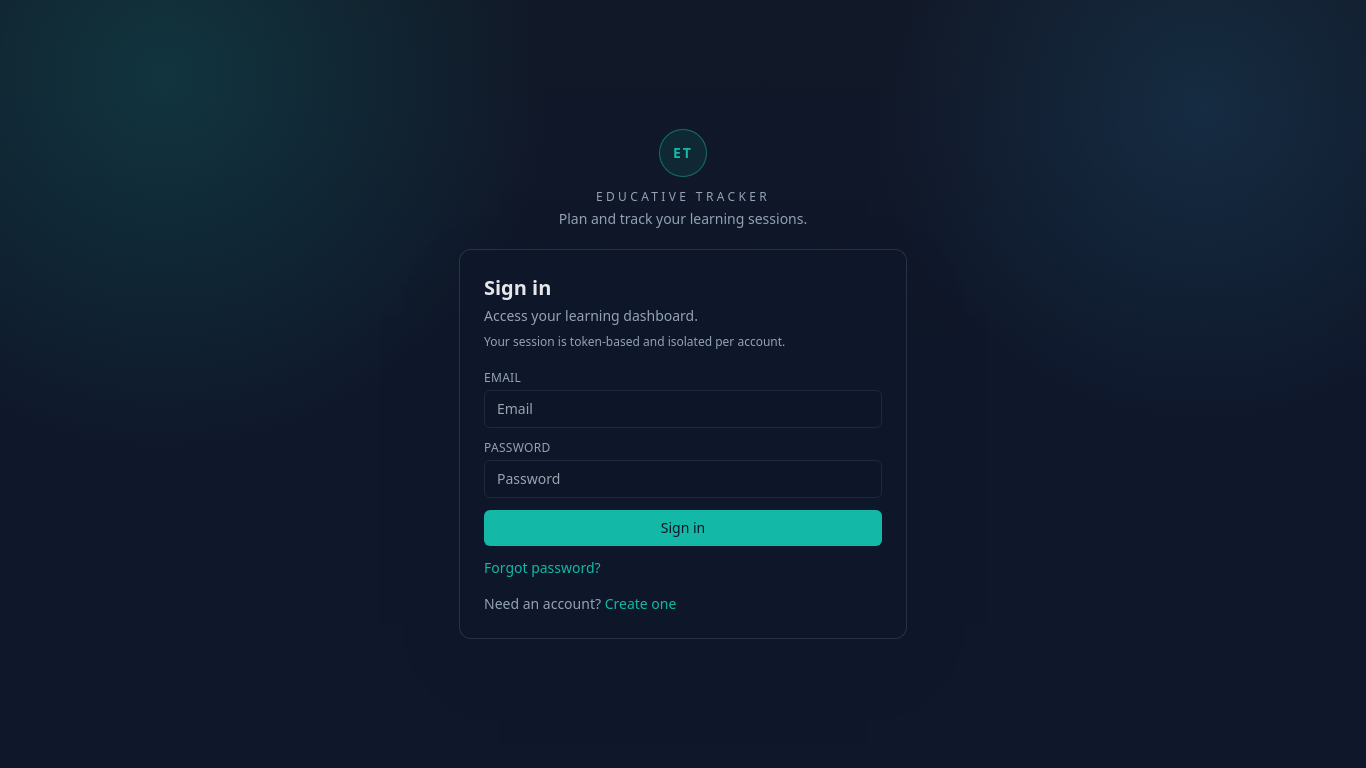
it: Frontend auth integration › logs in and redirects back to the originally requested protected route
Type "user1@example.com" into the field with placeholder "Email".
click(683, 409); type("user1@example.com")  # box [484,390,882,428]
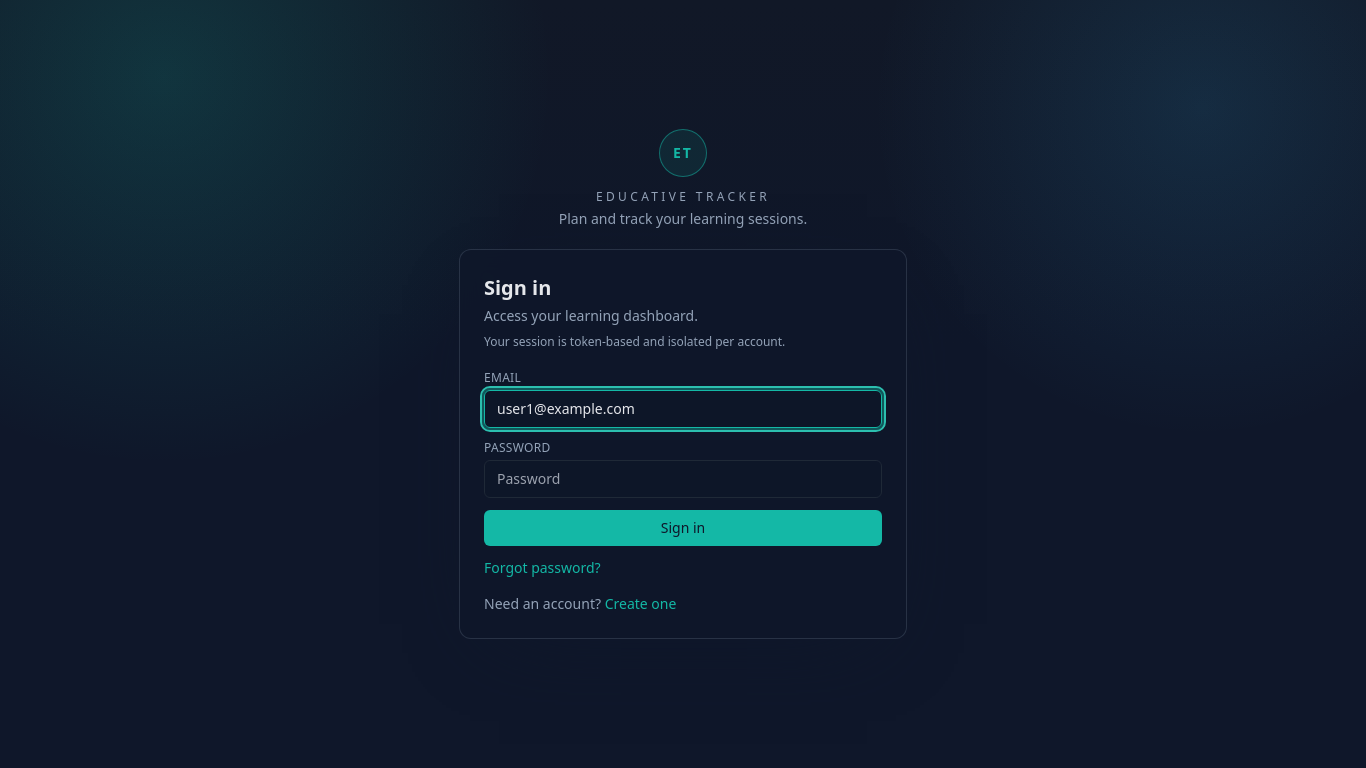
Type "StrongPass123" into the password field with placeholder "Password".
click(683, 479); type("StrongPass123")  # box [484,460,882,498]
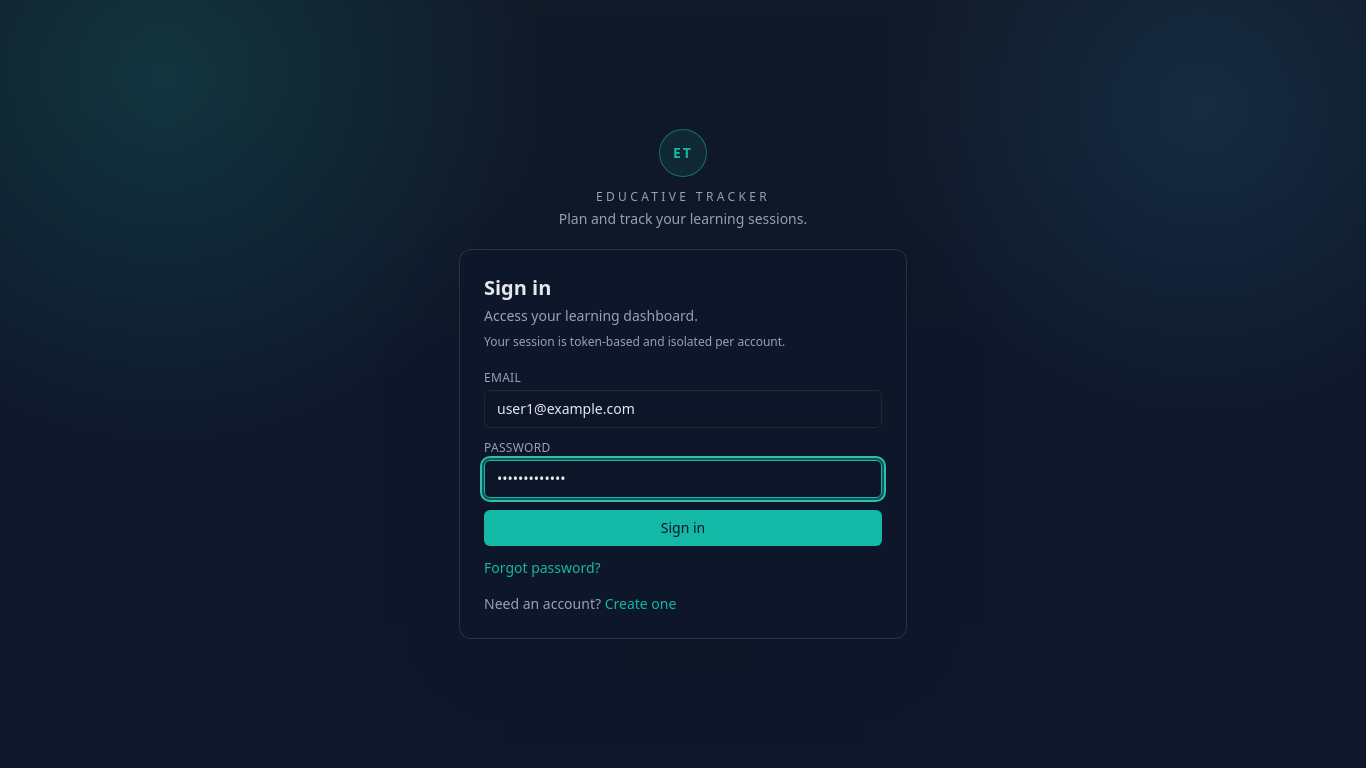
Click the button "Sign in".
click(683, 528)  # box [484,510,882,546]
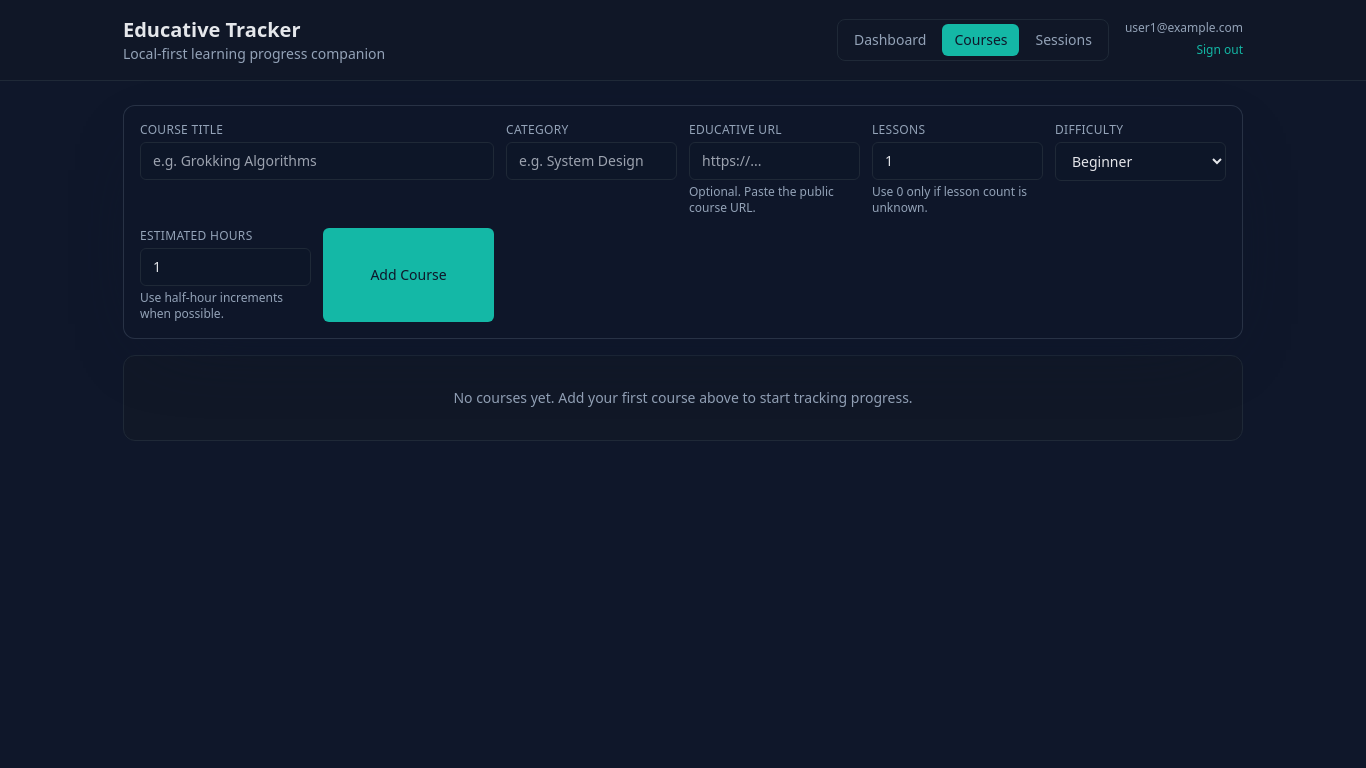
Expected: the button "Add Course" is shown, [323,228,494,322]
Expected: the text "user1@example.com" is shown, [1125,20,1243,36]
